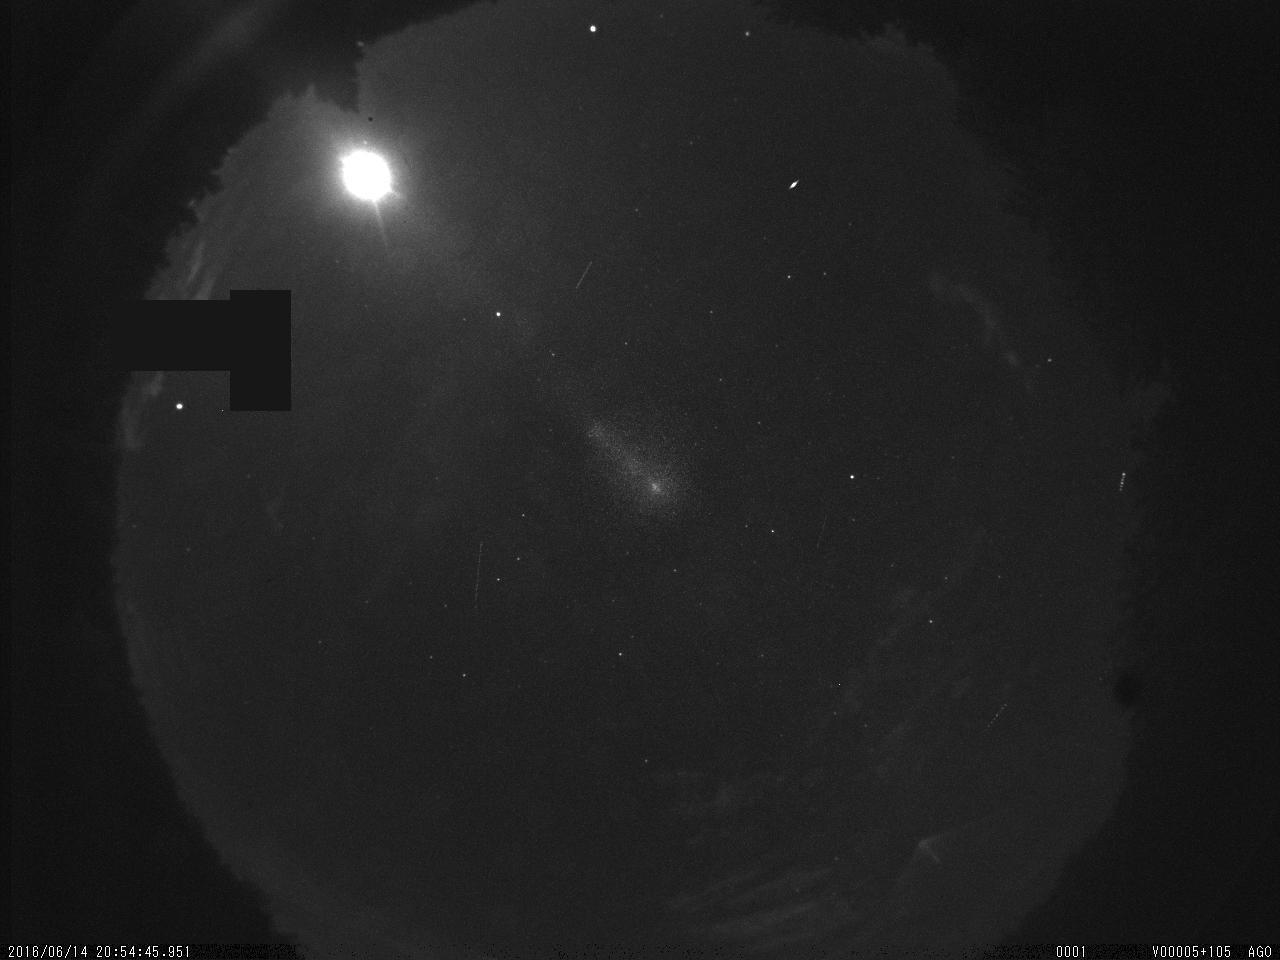meteor: (781, 171, 806, 195)
satelite: (1114, 467, 1136, 498)
